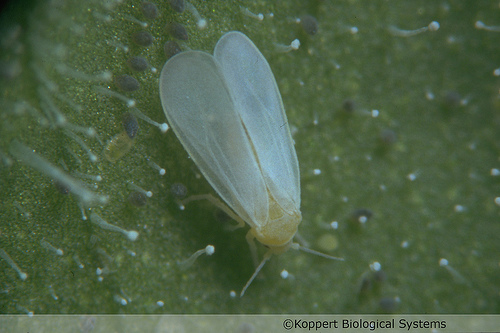whitefly: (158, 30, 345, 300)
